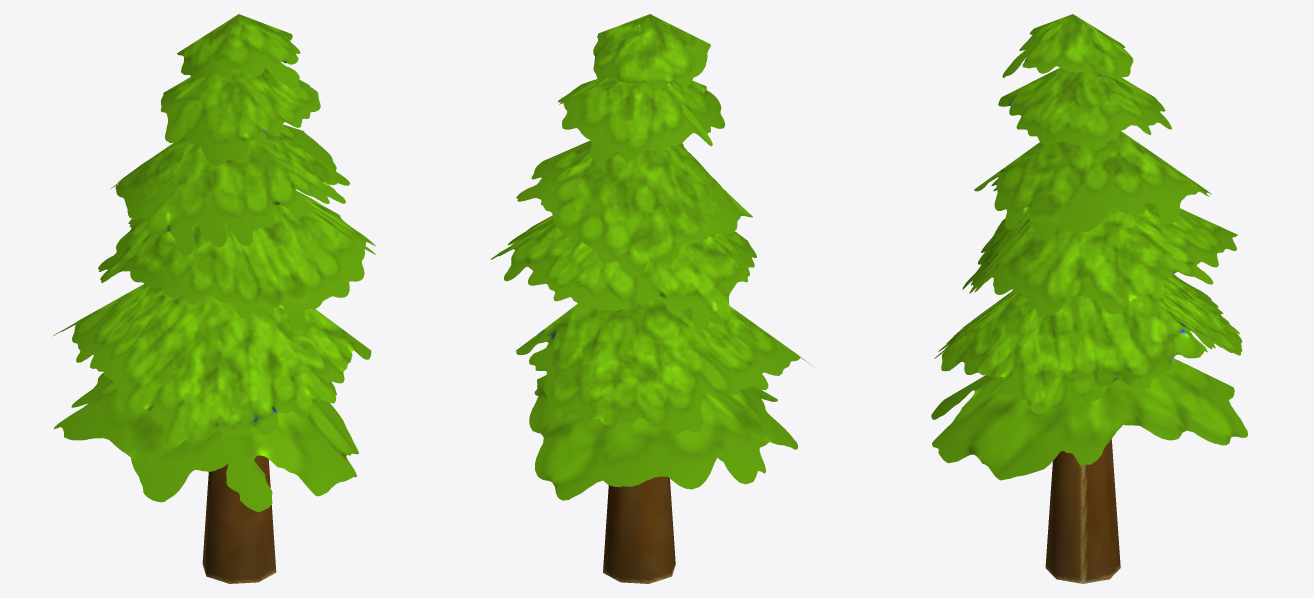
The model's file is tree2.fbx.
3 views of the same model, side by side, from view 1: azimuth 30°, elevation 25°; view 2: azimuth 150°, elevation 25°; view 3: azimuth 270°, elevation 25° (orthographic).
Visible parts, largest first — view 1: PineTree; view 2: PineTree; view 3: PineTree.
Part boxes in pixels (x1=…): PineTree: x1=52, y1=14, x2=375, y2=583; PineTree: x1=490, y1=14, x2=811, y2=583; PineTree: x1=931, y1=14, x2=1247, y2=583.
Bounding box in the file's own units: 130 × 202 × 136.
Materials: 1 (1 with a texture image).
